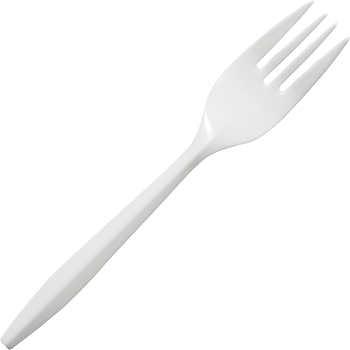Fork: (1, 0, 349, 349)
